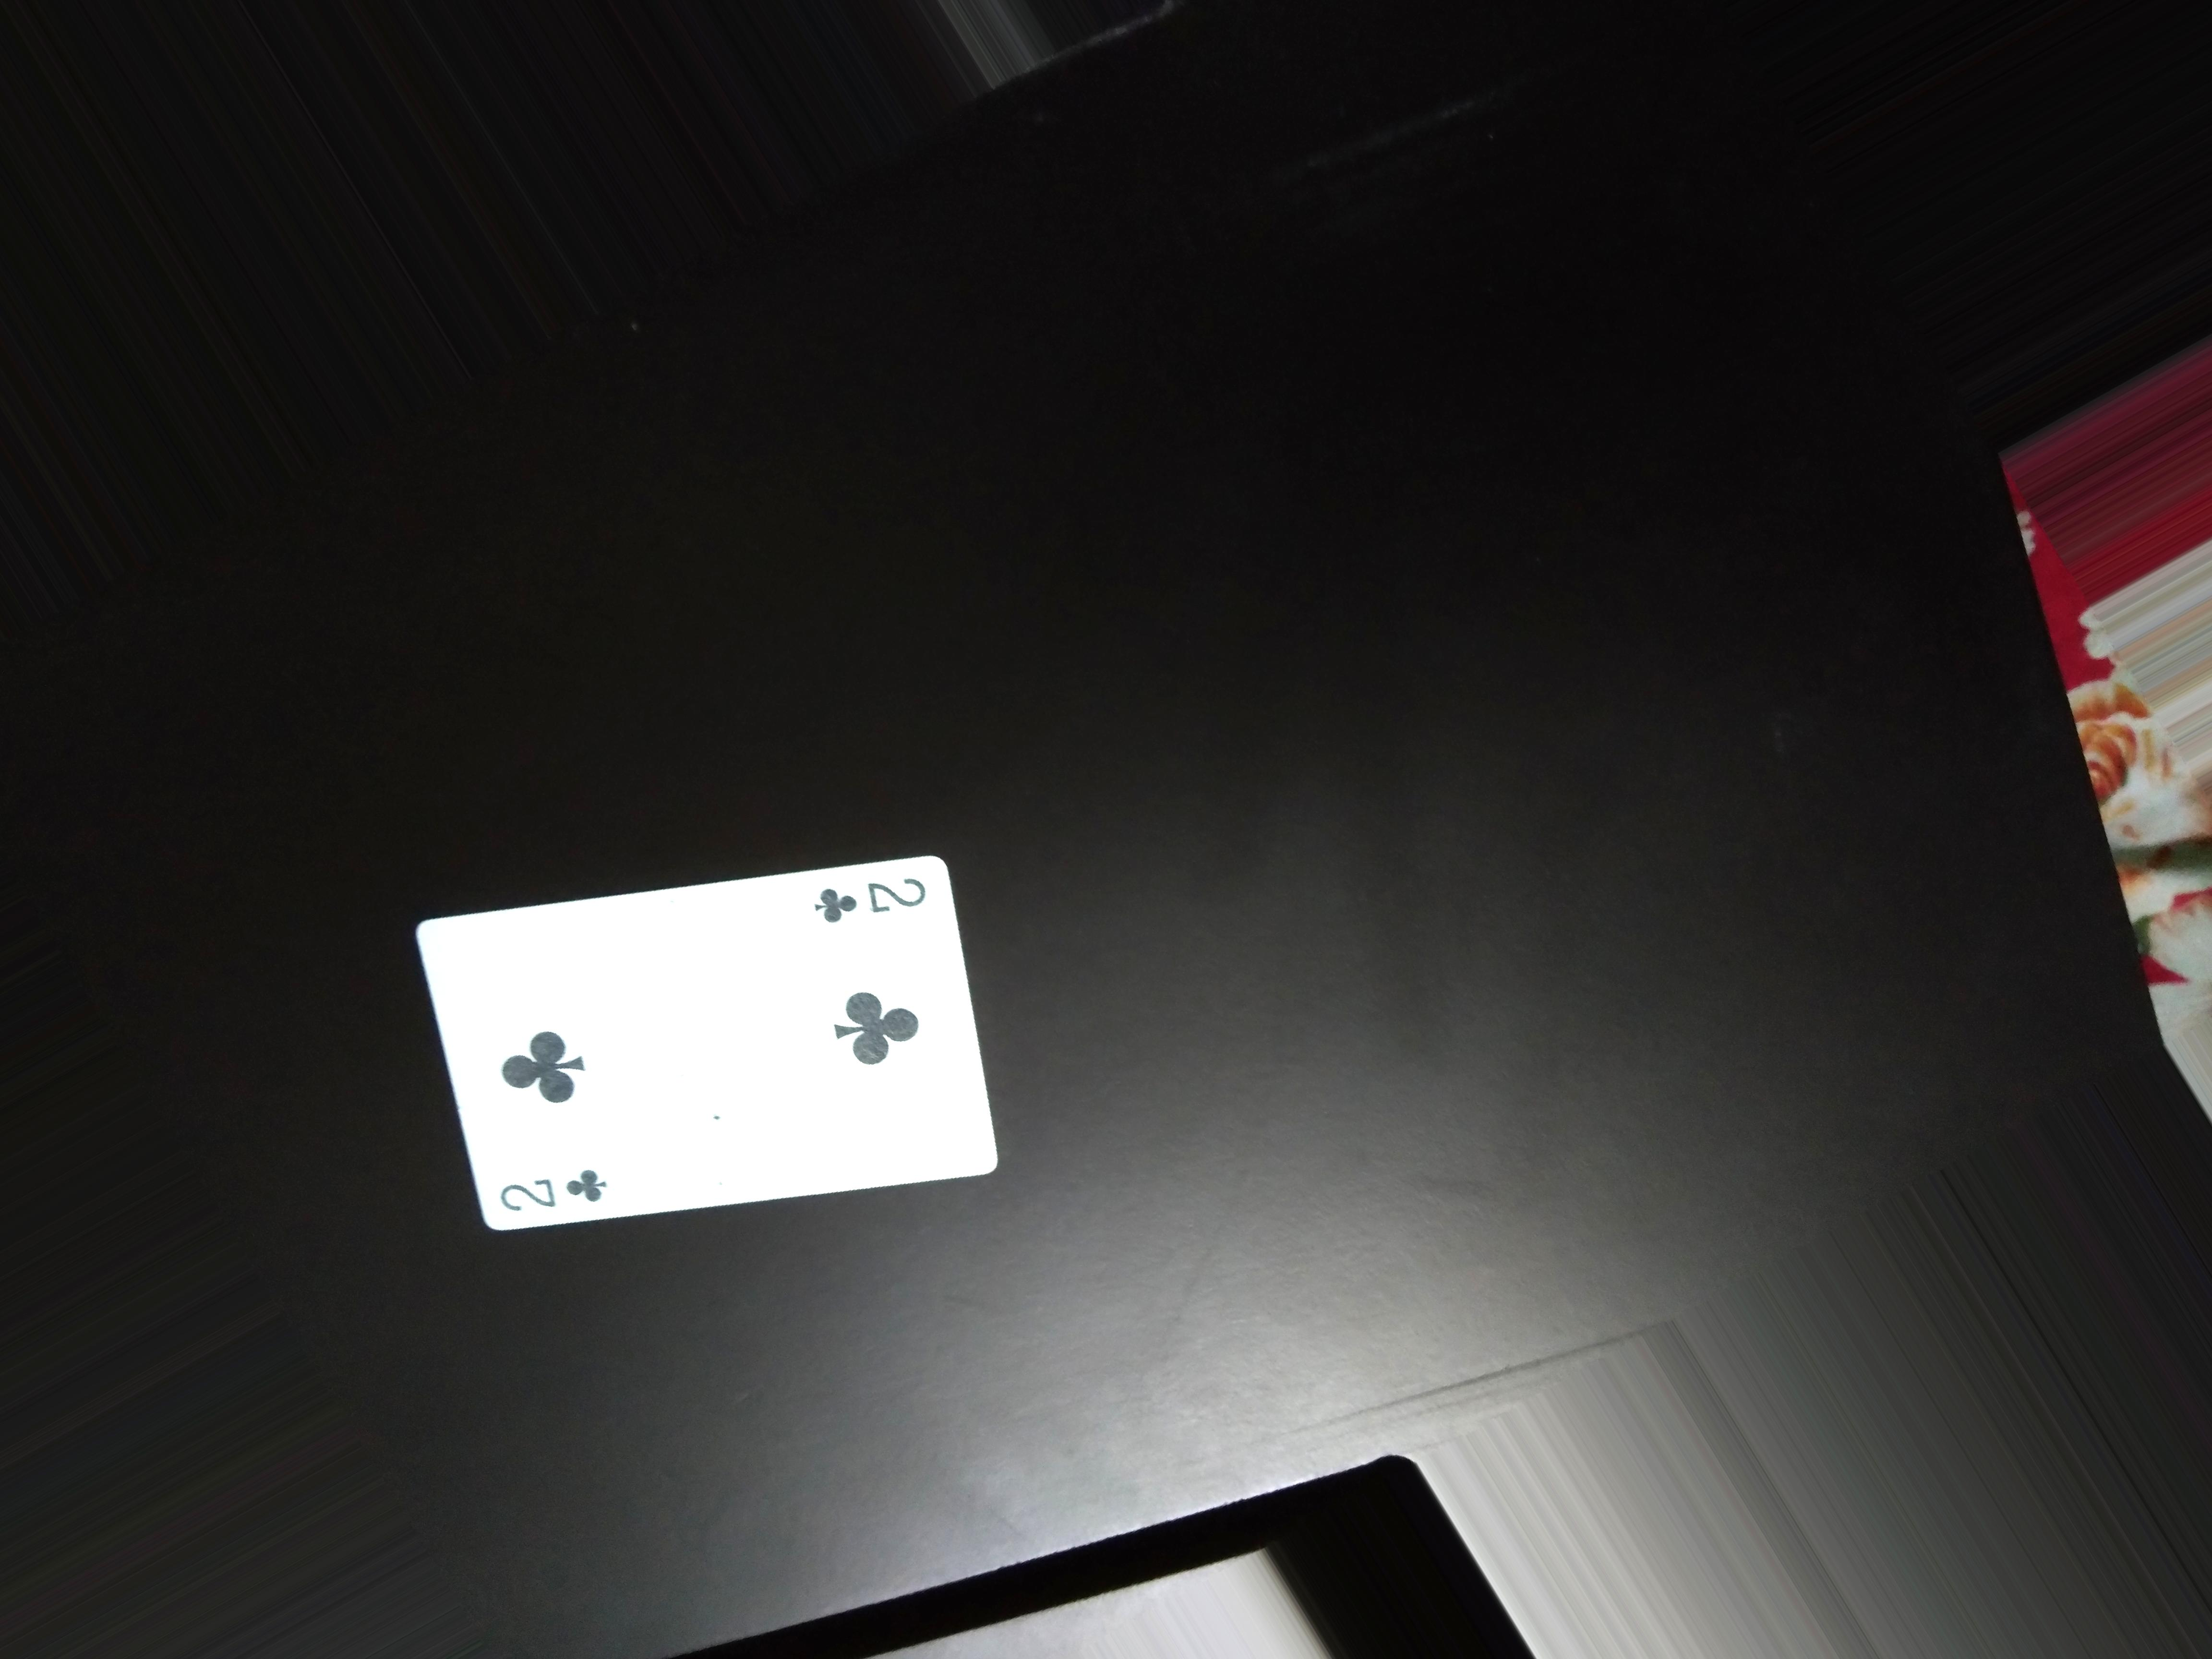2C: (798, 863, 927, 939)
